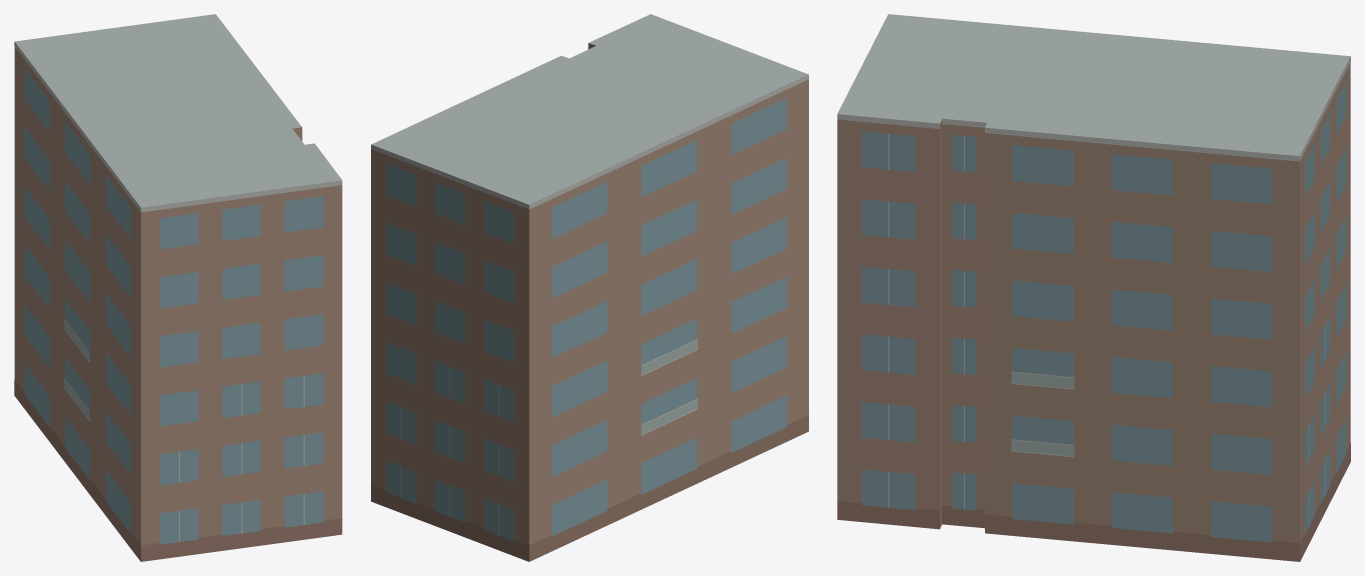
Rendered from survey-upis-32516479.glb.
3 views of the same model, side by side, from view 1: azimuth 30°, elevation 25°; view 2: azimuth 150°, elevation 25°; view 3: azimuth 270°, elevation 25° (orthographic). The views are drawn at different scales.
Visible parts, largest first — view 1: survey-upis-32516479.tmp; view 2: survey-upis-32516479.tmp; view 3: survey-upis-32516479.tmp.
Boxes of the visible parts, x1,y1,x2,y2 form: survey-upis-32516479.tmp: (14,14,342,561); survey-upis-32516479.tmp: (371,14,808,561); survey-upis-32516479.tmp: (837,14,1350,561).
Bounding box in the file's own units: 13.77 × 18.3 × 21.01.
